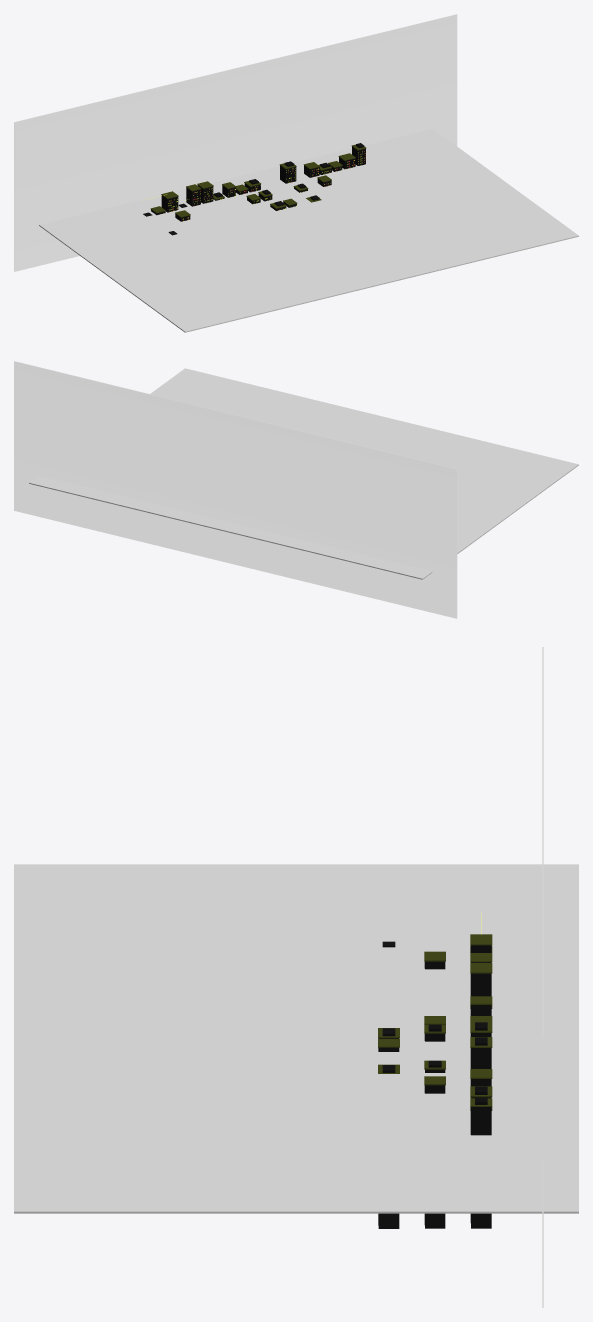
Rendered from voltgrid.glb.
The picture shows the model from 3 angles, top to bottom: view 1: azimuth 30°, elevation 25°; view 2: azimuth 150°, elevation 25°; view 3: azimuth 270°, elevation 25°; orthographic projection. The views are drawn at different scales.
Parts seen in each view (by area): view 1: Ground contact / transparent shadow receiver.071, Sky gradient / editable material.071, World / terrain and architecture.034; view 2: Sky gradient / editable material.071, Ground contact / transparent shadow receiver.071; view 3: Ground contact / transparent shadow receiver.071, World / terrain and architecture.034, Sky gradient / editable material.071.
Boxes of the visible parts, bbox=[...] form: Ground contact / transparent shadow receiver.071: bbox=[39, 128, 578, 332]; Sky gradient / editable material.071: bbox=[14, 14, 457, 271]; World / terrain and architecture.034: bbox=[143, 143, 366, 235]; Sky gradient / editable material.071: bbox=[14, 361, 457, 618]; Ground contact / transparent shadow receiver.071: bbox=[29, 368, 578, 579]; Ground contact / transparent shadow receiver.071: bbox=[14, 864, 578, 1213]; World / terrain and architecture.034: bbox=[378, 934, 492, 1228]; Sky gradient / editable material.071: bbox=[542, 647, 543, 1307].
Bounding box in the file's own units: 180 × 62 × 110.
